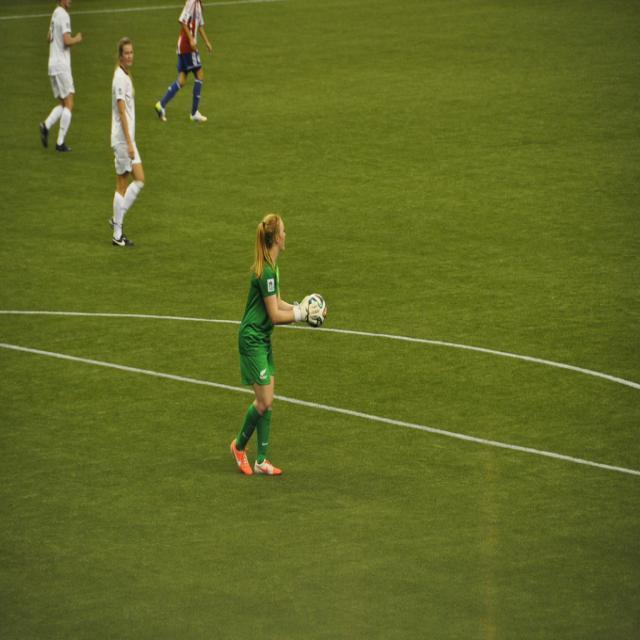football: (292, 285, 337, 326)
